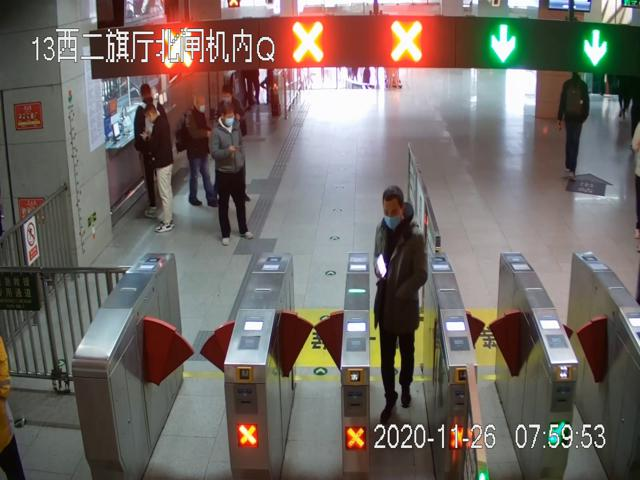person: (371, 186, 441, 429), (213, 106, 253, 246), (177, 92, 222, 213), (142, 109, 183, 236), (136, 82, 170, 220), (559, 71, 592, 182)
